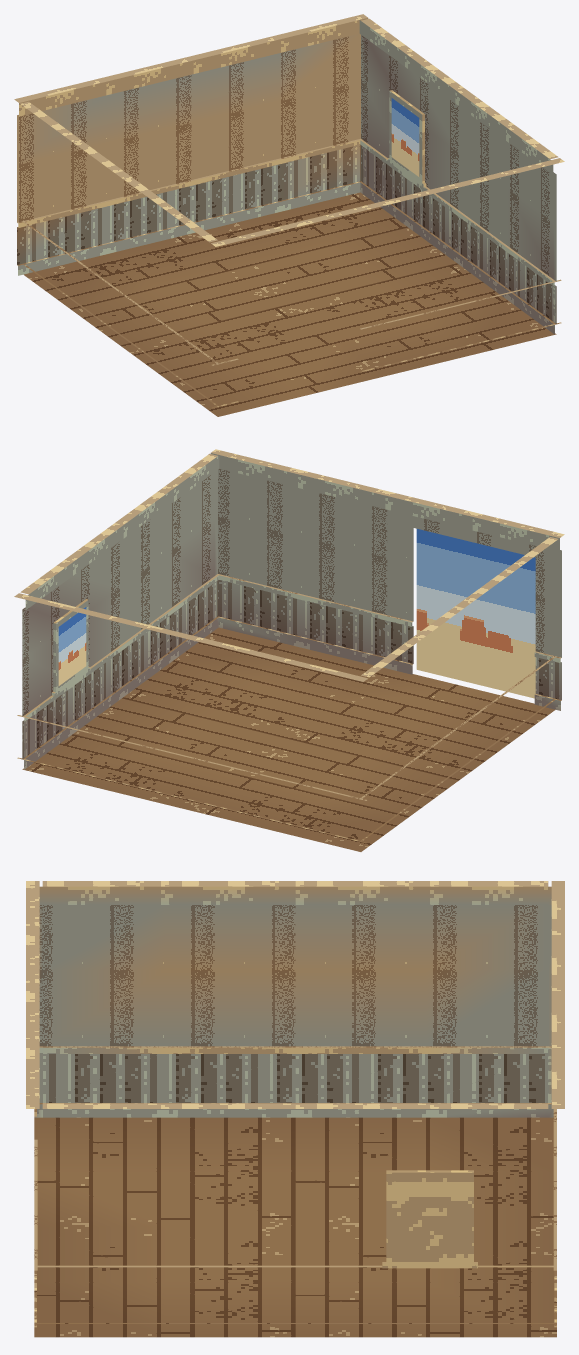
The model's file is wtown.room__office.glb.
3 renders of one model, top to bottom at view 1: azimuth 30°, elevation 25°; view 2: azimuth 150°, elevation 25°; view 3: azimuth 270°, elevation 25°, orthographic. The views are drawn at different scales.
Parts seen in each view (by area): view 1: kit_shell_walls, kit_shell_floor, kit_card_views, kit_windows; view 2: kit_shell_walls, kit_shell_floor, kit_card_door_views, kit_card_views, kit_windows; view 3: kit_shell_walls, kit_shell_floor, kit_windows.
Boxes of the visible parts, box(x1,y1,x2,y2) form: kit_shell_walls: box(14, 14, 564, 408); kit_shell_floor: box(24, 192, 556, 416); kit_card_views: box(391, 98, 419, 176); kit_windows: box(388, 90, 426, 187); kit_shell_walls: box(14, 449, 564, 843); kit_shell_floor: box(22, 627, 555, 851); kit_card_door_views: box(416, 529, 535, 698); kit_card_views: box(58, 607, 86, 685); kit_windows: box(51, 599, 90, 696); kit_shell_walls: box(26, 881, 564, 1327); kit_shell_floor: box(34, 1117, 556, 1337); kit_windows: box(382, 1170, 477, 1268).
Size of the model in its own units: 8 by 3.85 by 8.18.
6 materials, 6 textured.
